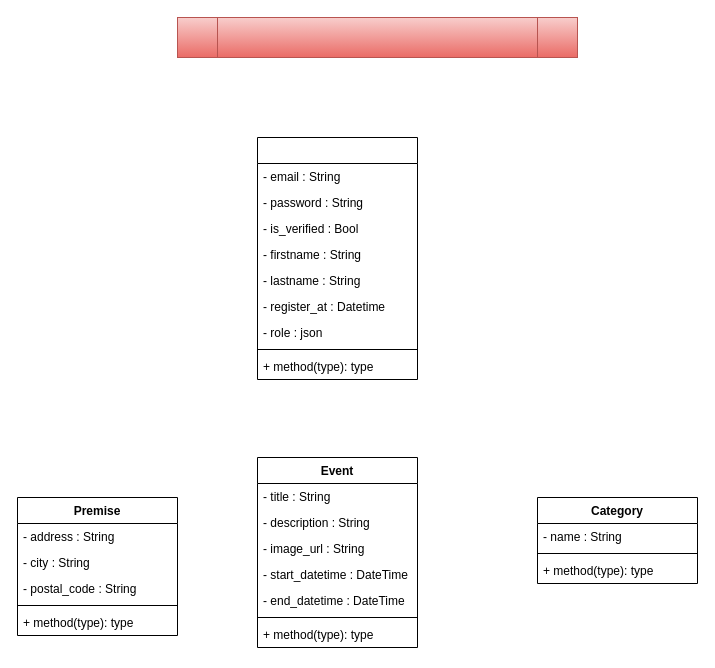
Image size: 715x668. Some labels were removed from this diagram. The box of each missing label's shape, as (x1, y1, x2, y2) in pixels:
Diagramme de Classes: (176, 16, 578, 58)
User: (256, 136, 418, 380)
